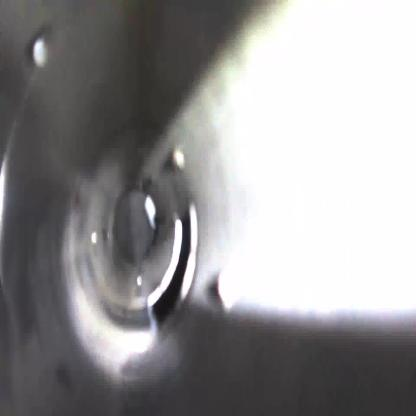Crack2: (146, 200, 196, 337)
